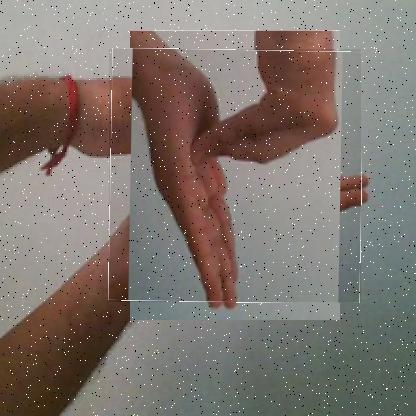Z: (109, 49, 362, 303)
